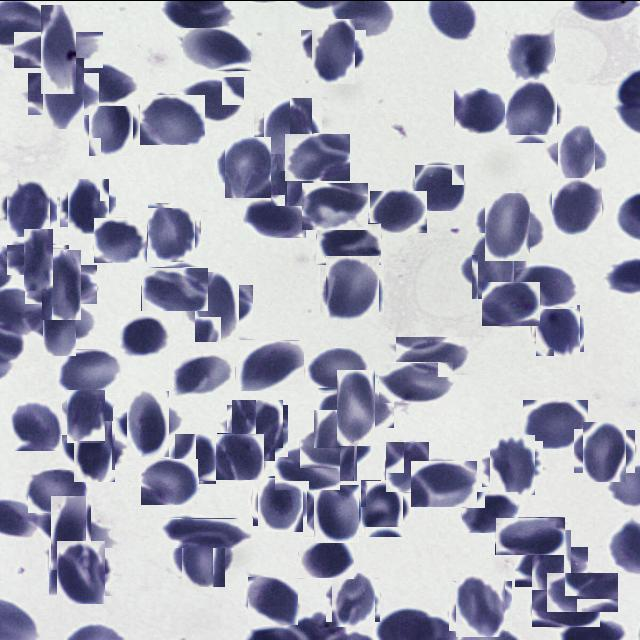red blood cell: (27, 18, 90, 80), (235, 339, 304, 390), (502, 80, 560, 140), (323, 258, 382, 316), (259, 101, 317, 159), (306, 416, 364, 474), (523, 400, 588, 450), (140, 94, 205, 144), (479, 197, 536, 254), (42, 504, 100, 560), (328, 378, 384, 436), (189, 278, 246, 334), (65, 61, 137, 105), (284, 132, 350, 180), (452, 577, 508, 633), (230, 402, 286, 458), (524, 538, 580, 594), (34, 256, 90, 312), (53, 543, 109, 599), (36, 65, 91, 122), (57, 348, 122, 396), (302, 182, 368, 229), (378, 361, 453, 402), (411, 460, 477, 506), (182, 26, 251, 70), (121, 396, 176, 450), (306, 24, 361, 78), (141, 266, 208, 310), (550, 178, 604, 232), (466, 238, 520, 292), (546, 572, 618, 612), (145, 205, 198, 259), (220, 140, 274, 193), (171, 351, 234, 396), (486, 437, 539, 490), (84, 98, 138, 150), (182, 76, 244, 121), (160, 517, 253, 547), (396, 336, 469, 374), (316, 222, 381, 264), (275, 447, 340, 489), (307, 348, 369, 392), (515, 264, 577, 308), (578, 424, 630, 476), (10, 398, 62, 450), (177, 530, 229, 582), (310, 487, 362, 539), (142, 458, 200, 504), (495, 516, 565, 554), (255, 477, 306, 528), (68, 426, 120, 476), (482, 281, 540, 325), (454, 88, 508, 135), (243, 197, 306, 237), (532, 589, 600, 626), (552, 128, 602, 178), (328, 574, 378, 624), (358, 482, 408, 532), (506, 28, 556, 78), (34, 297, 84, 347), (4, 183, 54, 233), (28, 469, 86, 512), (298, 534, 354, 578), (248, 576, 298, 624), (461, 490, 518, 532), (370, 190, 427, 232), (94, 217, 147, 262), (414, 163, 464, 210), (64, 182, 112, 230), (534, 305, 582, 353), (217, 432, 264, 480), (385, 440, 429, 491), (172, 435, 218, 481), (63, 392, 109, 438), (15, 236, 61, 282), (118, 315, 169, 356), (266, 157, 308, 200)
